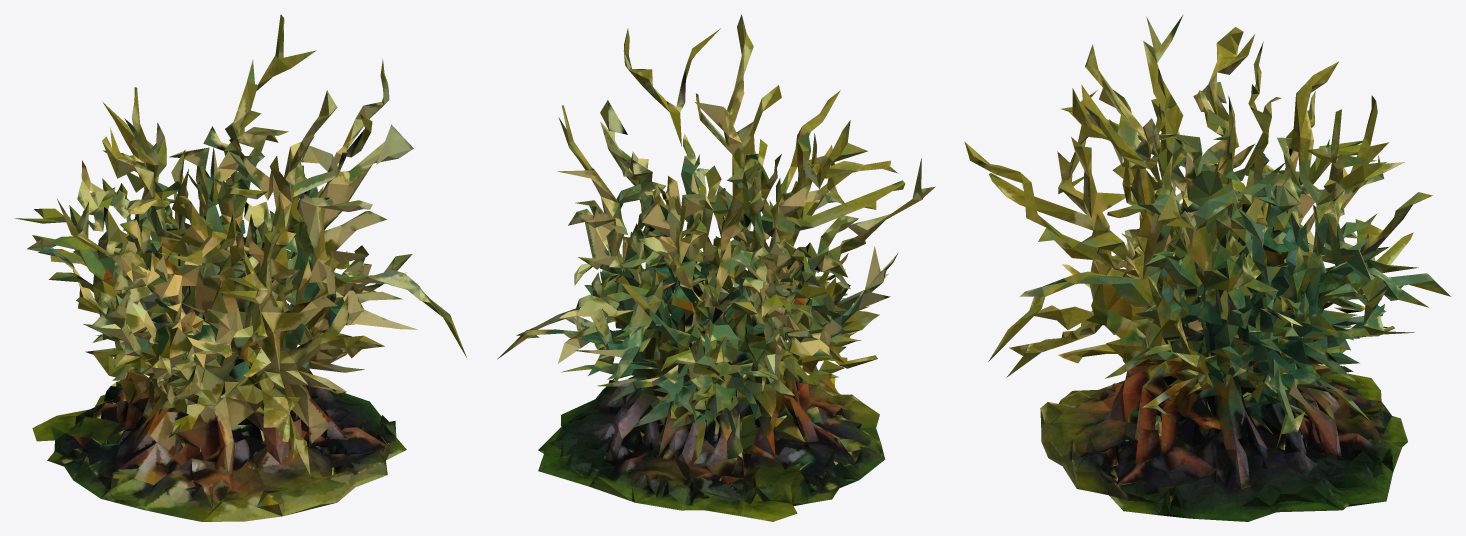
The model's file is fantasy_bush.glb.
3 views of the same model, side by side, from view 1: azimuth 30°, elevation 25°; view 2: azimuth 150°, elevation 25°; view 3: azimuth 270°, elevation 25° (orthographic). The views are drawn at different scales.
Size of the model in its own units: 1.69 by 1.69 by 1.77.
1 material, 1 textured.
